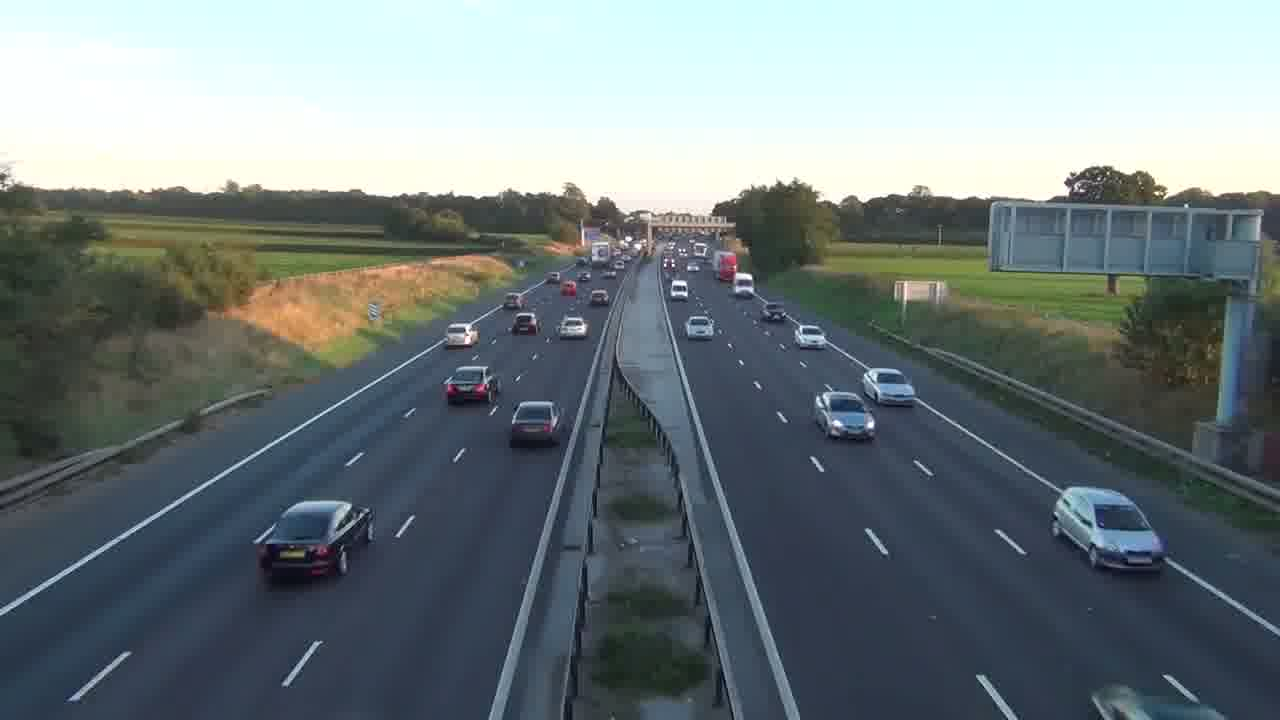car: (1050, 485, 1168, 573), (253, 498, 375, 583), (813, 389, 876, 441), (509, 399, 563, 446), (443, 364, 498, 406), (860, 368, 916, 407), (445, 322, 480, 349), (556, 315, 589, 340), (684, 314, 715, 340), (795, 324, 826, 350), (511, 312, 538, 335), (589, 288, 610, 306)
truck: (253, 498, 375, 583)
